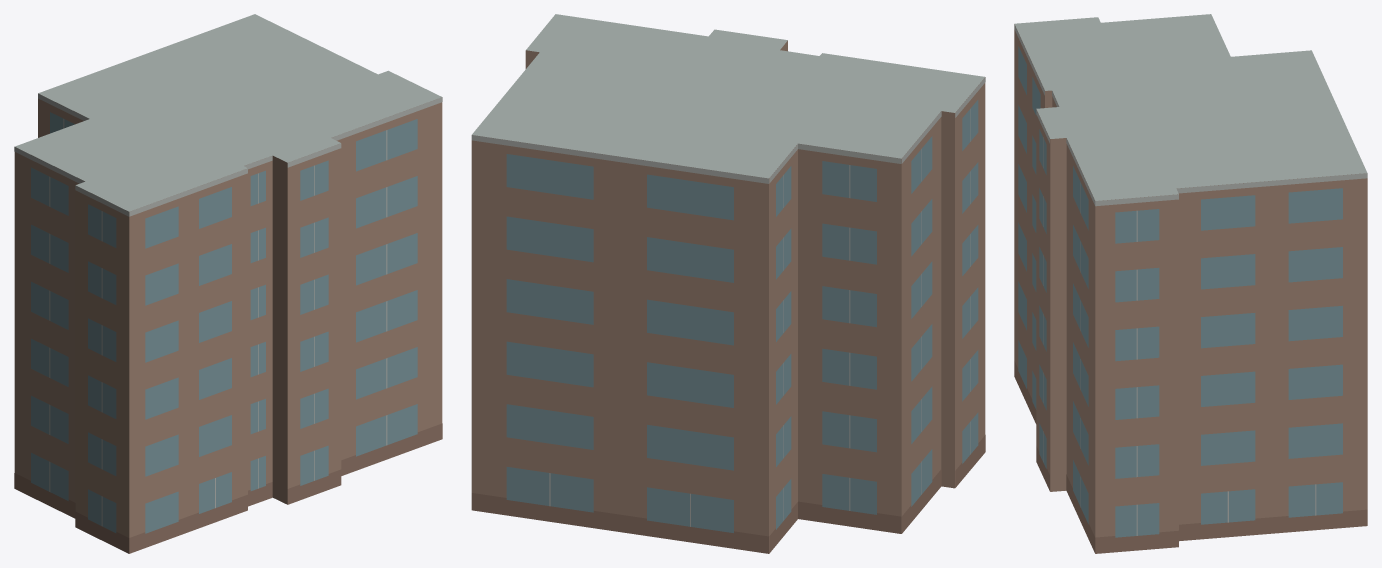
The model's file is survey-upis-32925756.glb.
The picture shows the model from 3 angles, left to right: view 1: azimuth 30°, elevation 25°; view 2: azimuth 150°, elevation 25°; view 3: azimuth 270°, elevation 25°; orthographic projection. The views are drawn at different scales.
Visible parts, largest first — view 1: survey-upis-32925756.tmp; view 2: survey-upis-32925756.tmp; view 3: survey-upis-32925756.tmp.
Boxes of the visible parts, x1,y1,x2,y2 form: survey-upis-32925756.tmp: [14, 14, 442, 553]; survey-upis-32925756.tmp: [471, 14, 985, 553]; survey-upis-32925756.tmp: [1014, 14, 1367, 553].
Size of the model in its own units: 18.88 by 16.6 by 15.07.
